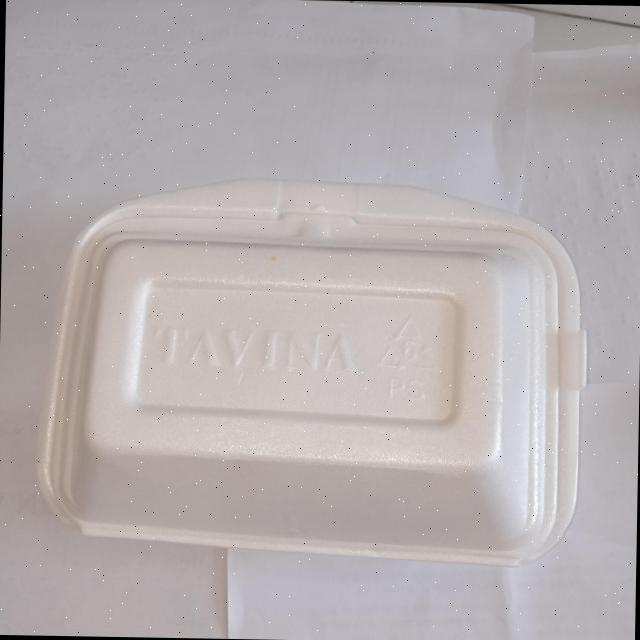styrofoam: (32, 171, 590, 569)
